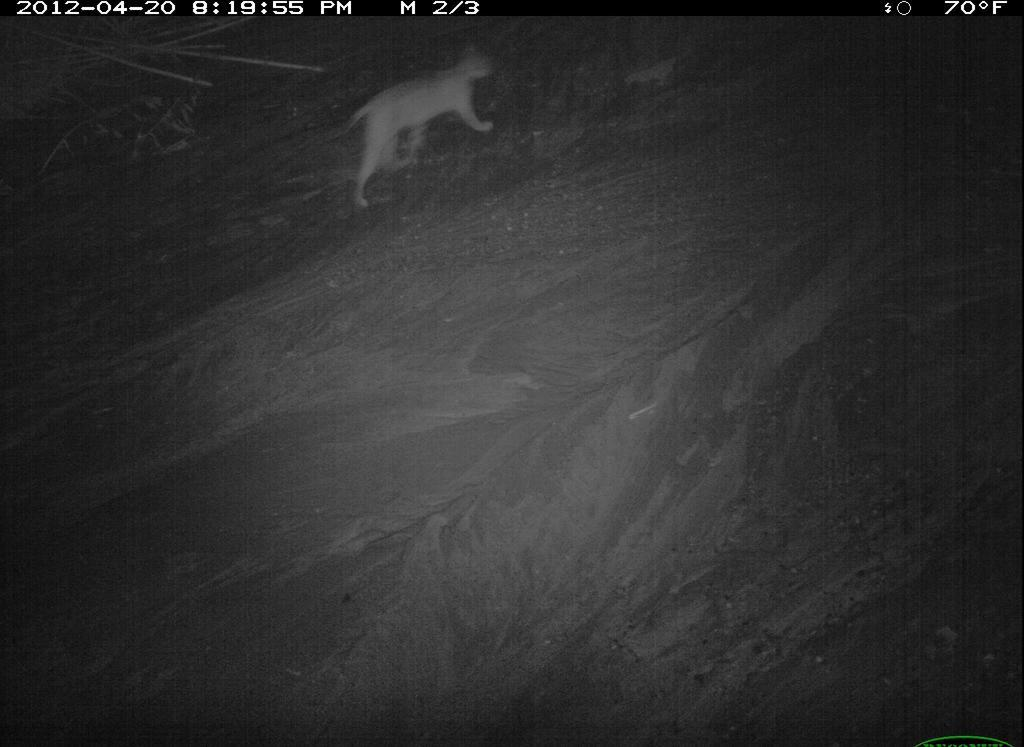bobcat: (679, 72, 1006, 423)
